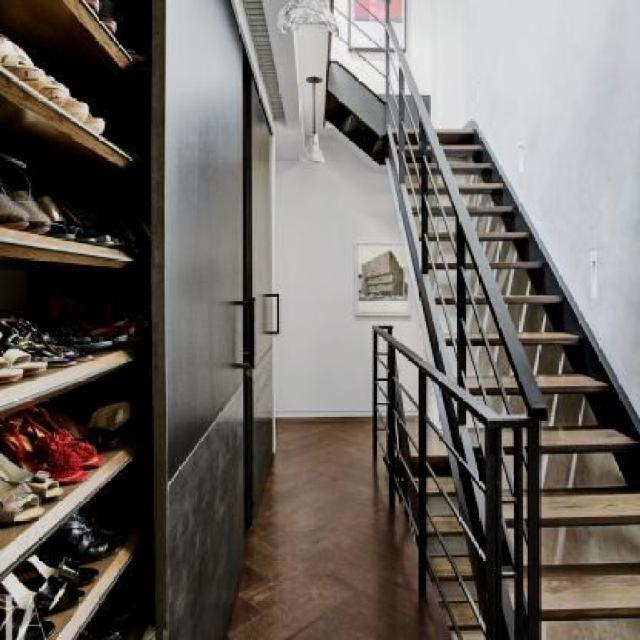stair: (365, 52, 640, 639)
